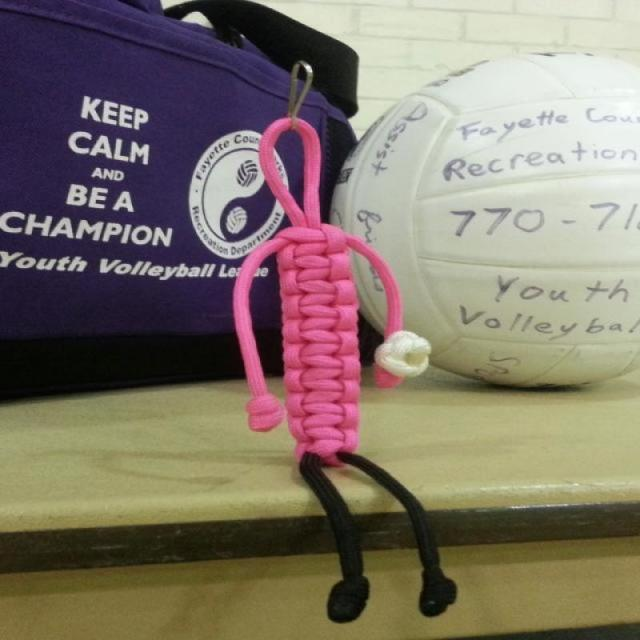volleyball: (328, 51, 639, 390)
